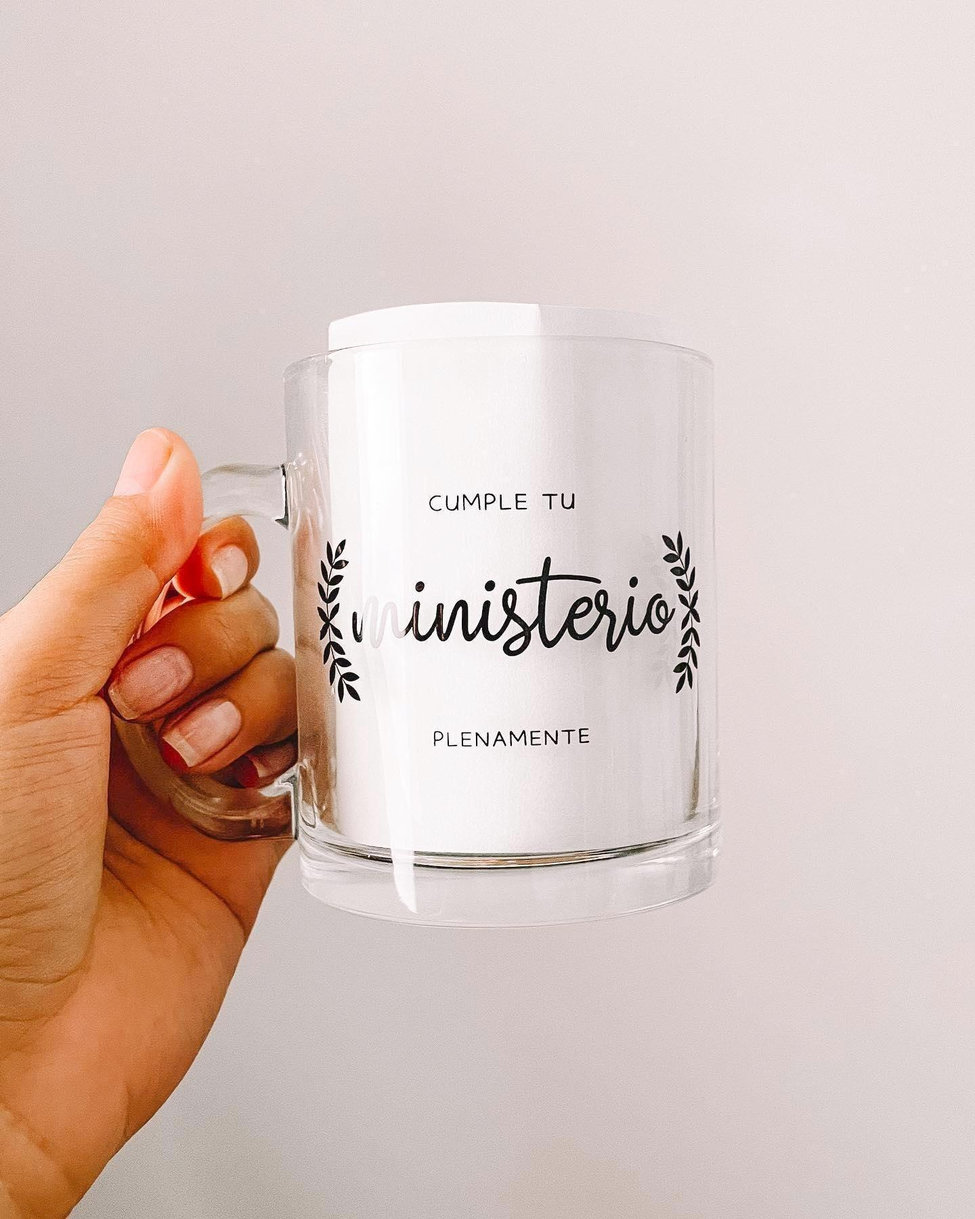glass-mug: (137, 294, 739, 941)
